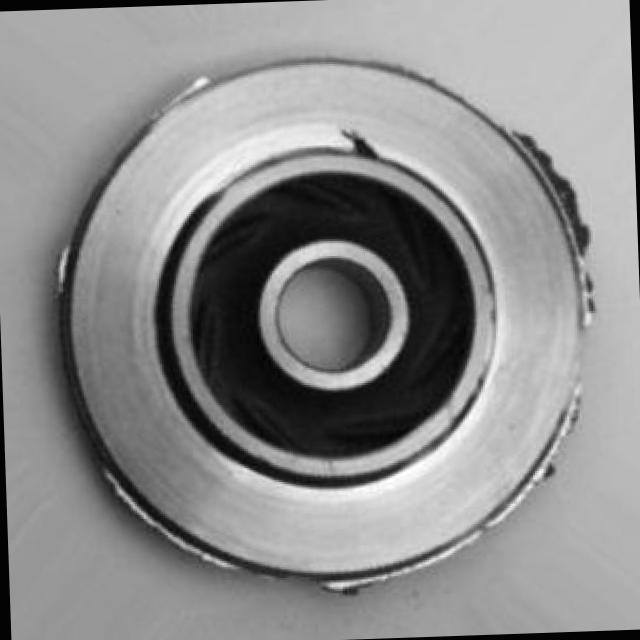Defect: (342, 126, 381, 165)
